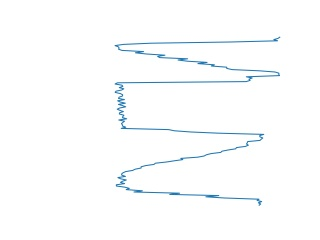distributaryChannelFill: (111, 72, 267, 140)
mouthBar: (112, 32, 285, 78)
underwaterDistributaryChannel: (111, 138, 266, 206)
